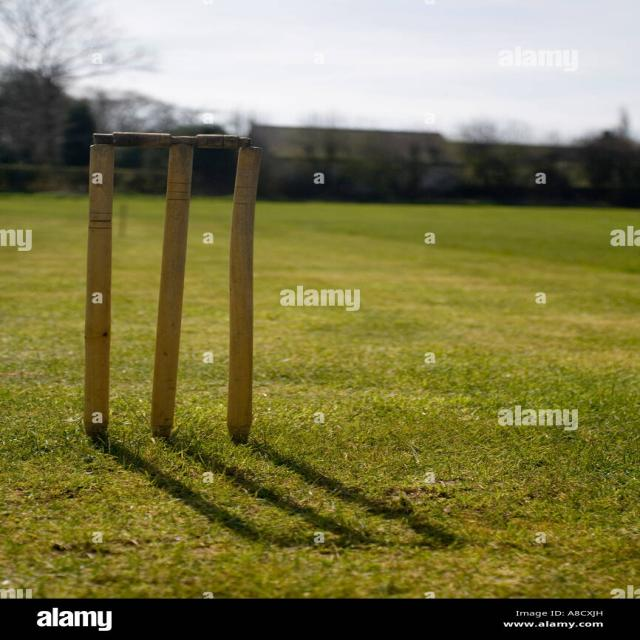stump: (79, 131, 271, 440)
